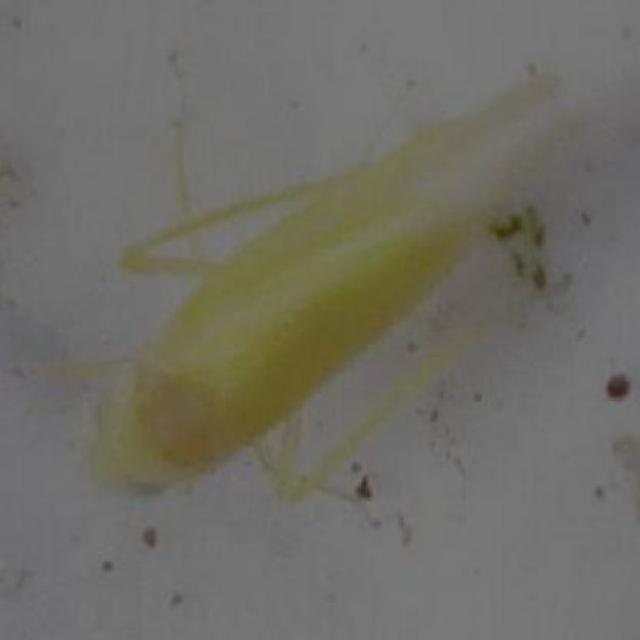green-leafhopper: (85, 56, 593, 518)
